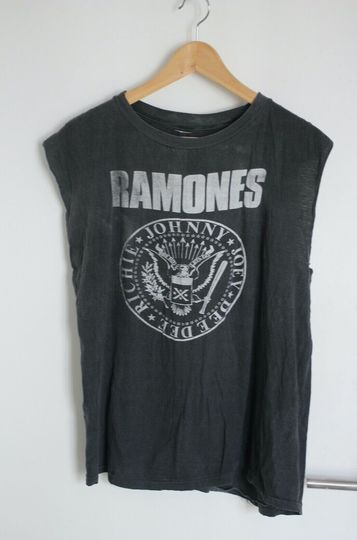design: (108, 164, 269, 343)
